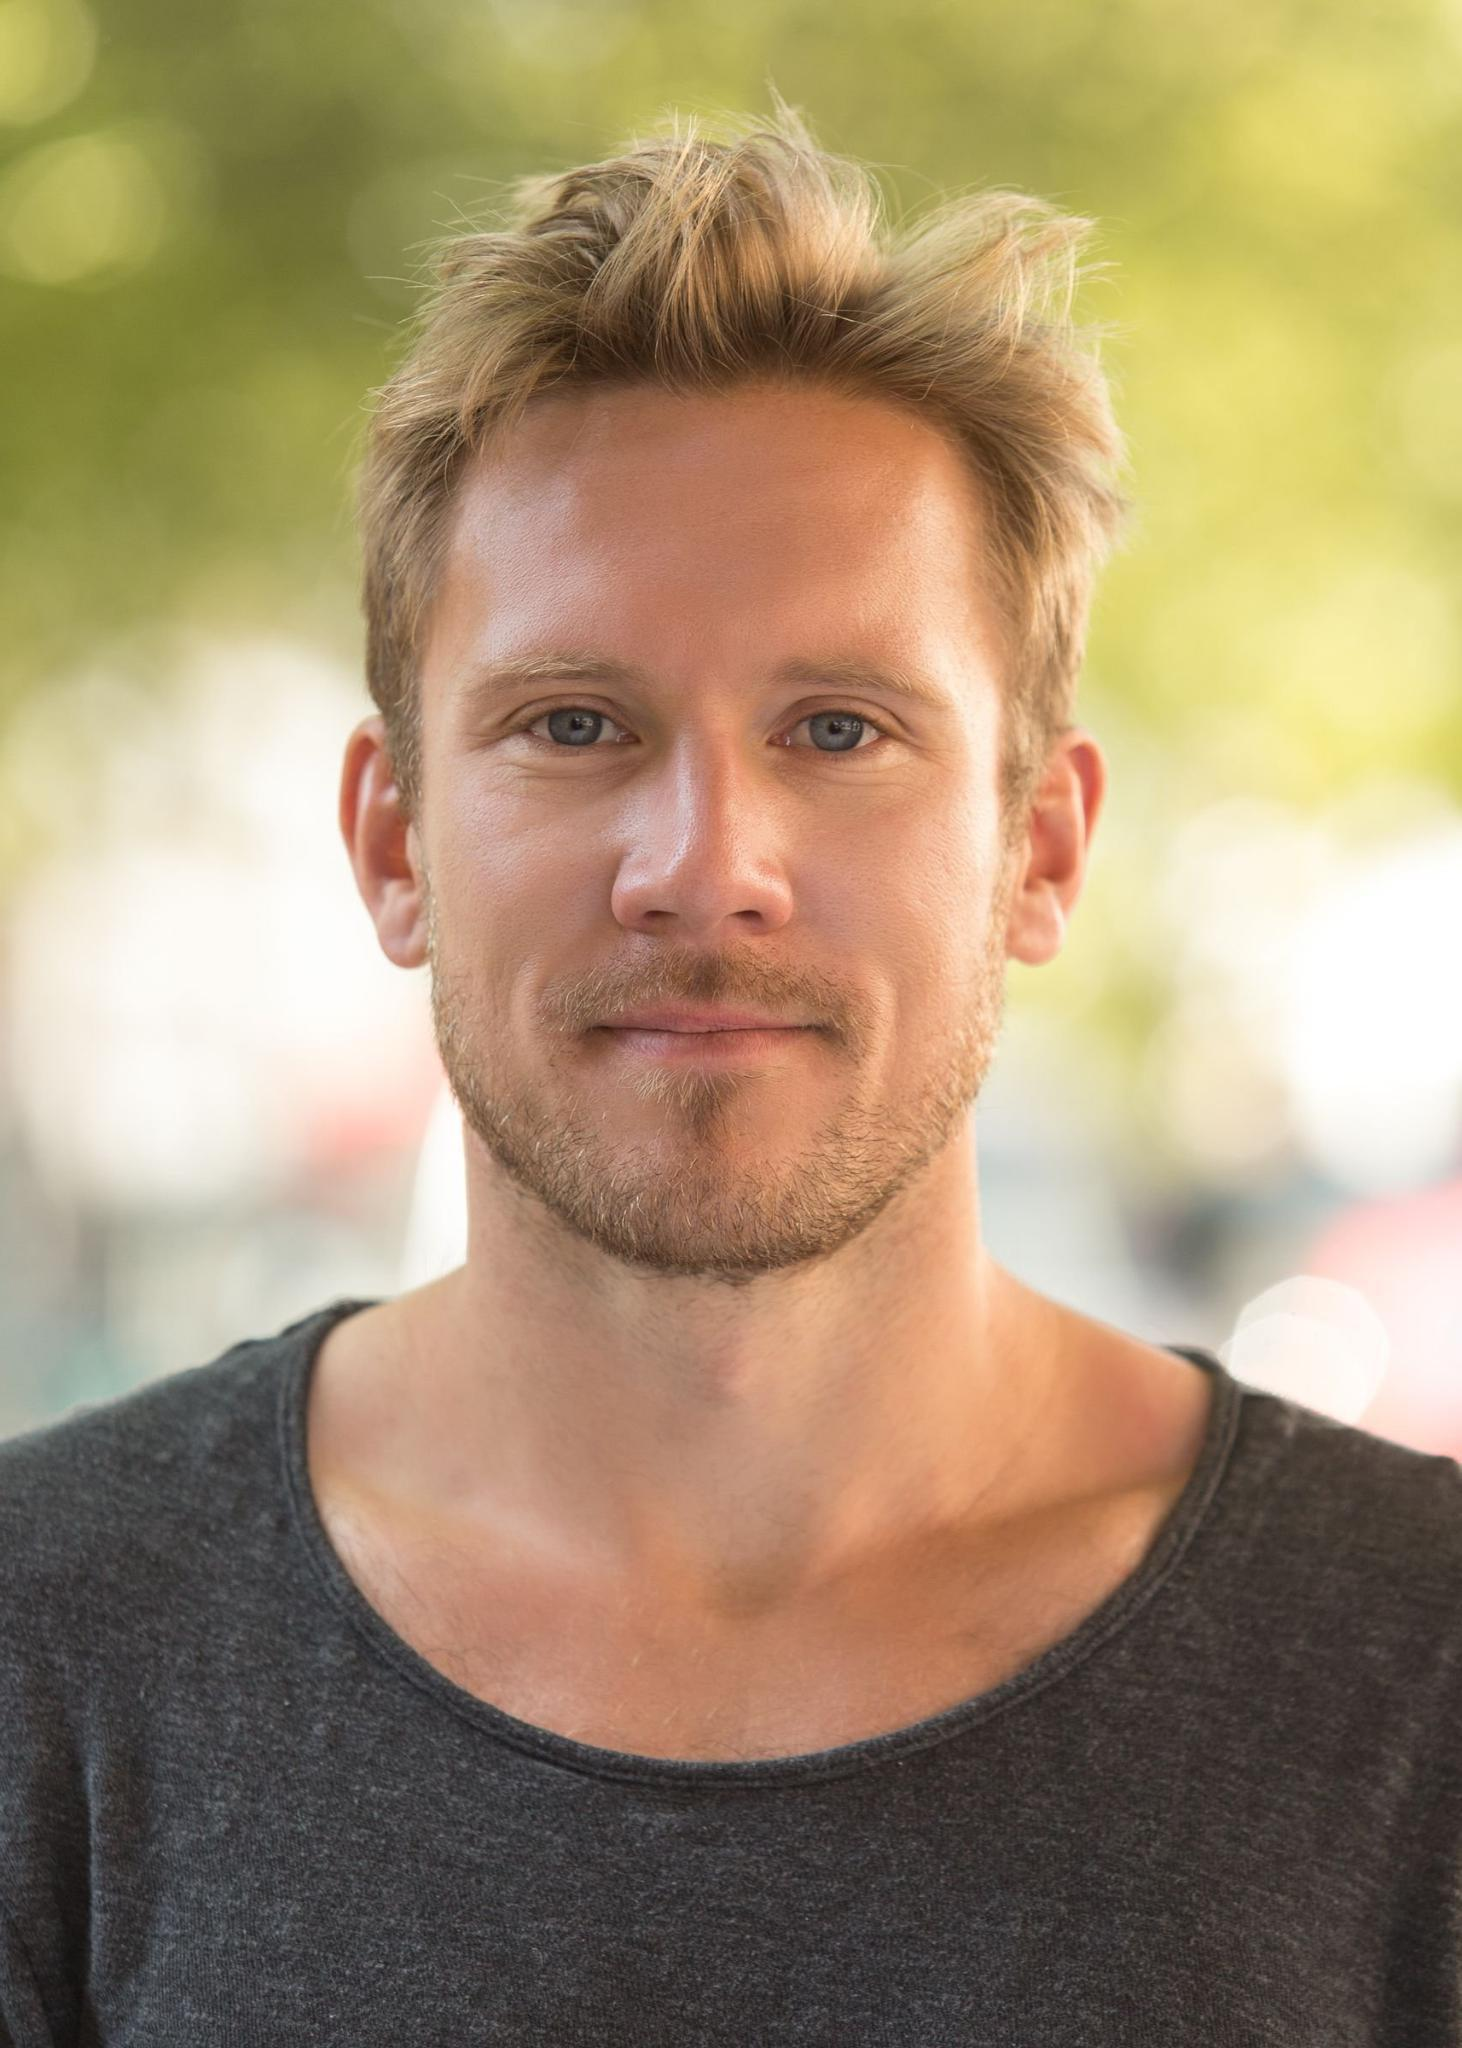Sober: (448, 425, 981, 1234)
